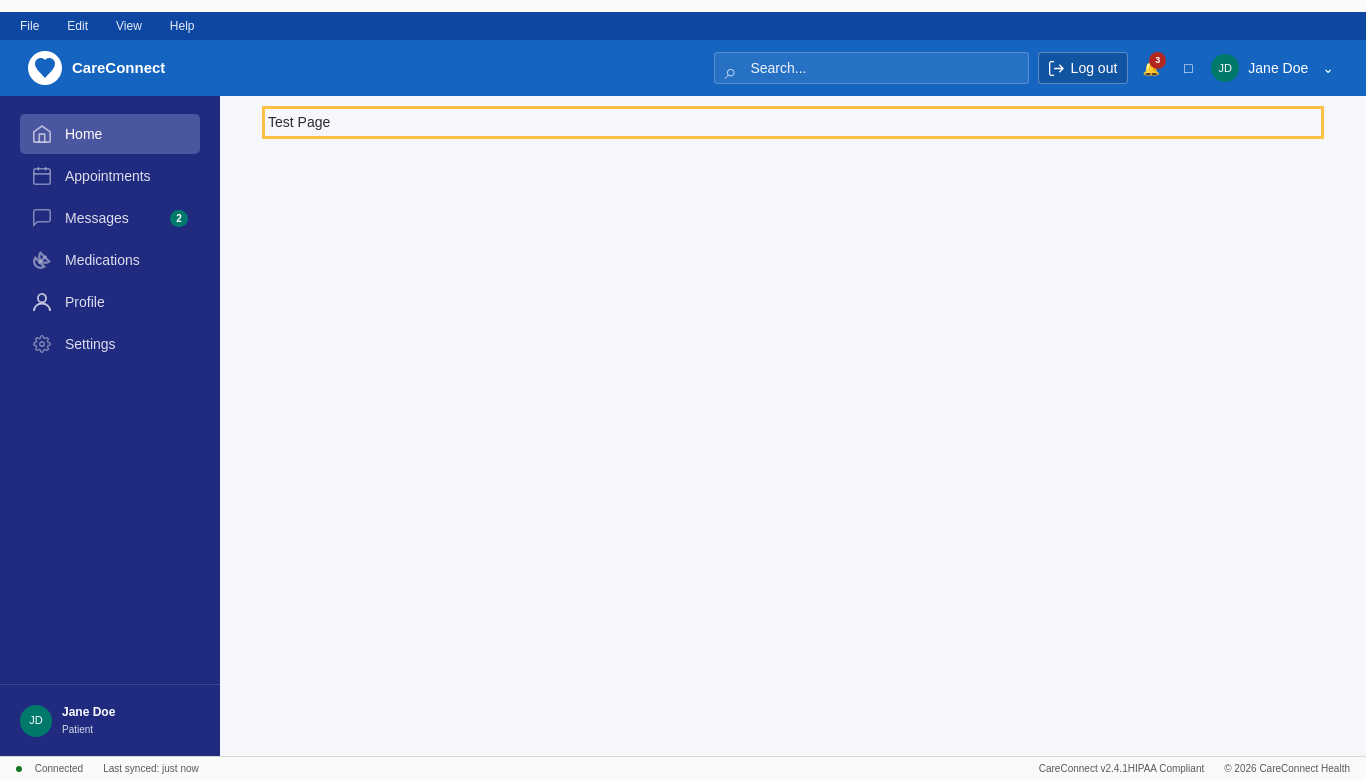
Test: Shell › Help menu opens and closes
Click the button "Help": (182,26) [170,14,194,38]
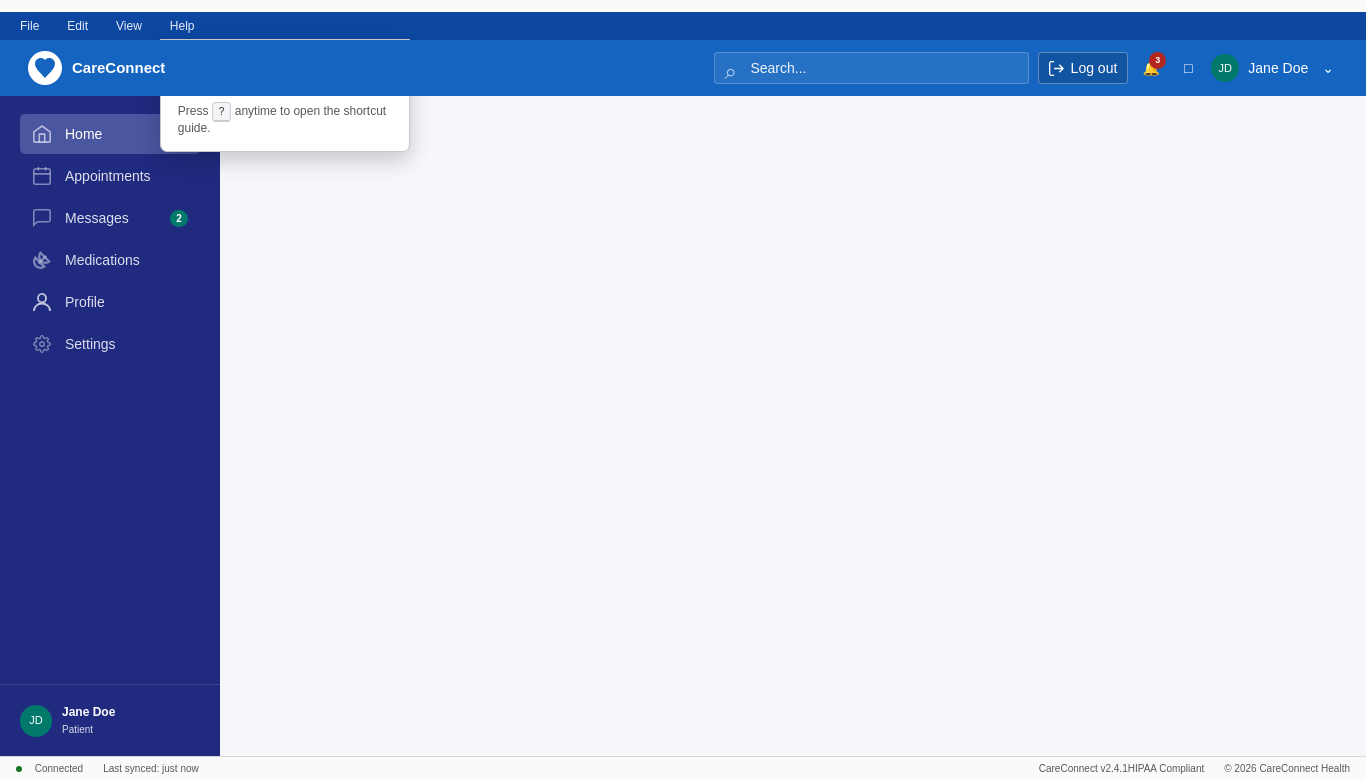
expect the menu is shown: met, box [160,39,410,152]
Click the button "Help": (182,26) [170,14,194,38]
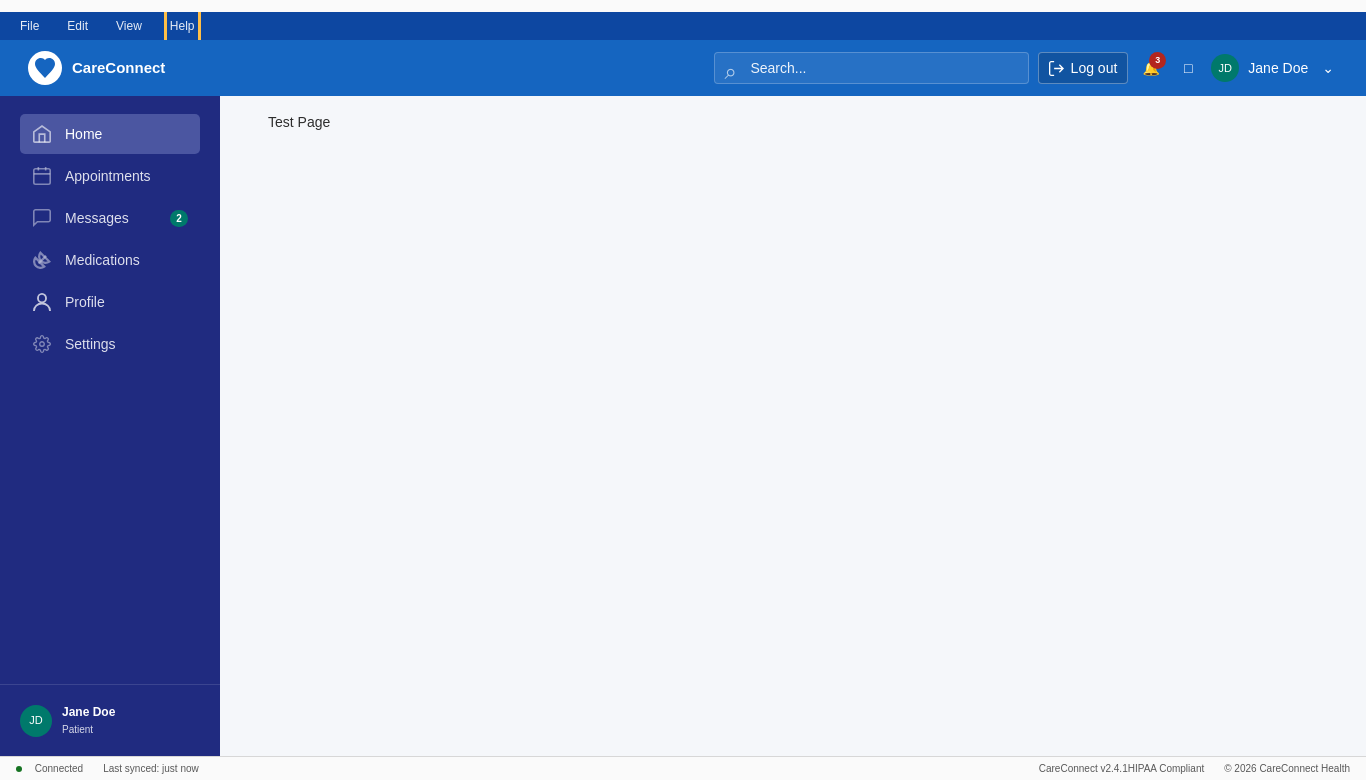
expect the menu is gone: met
